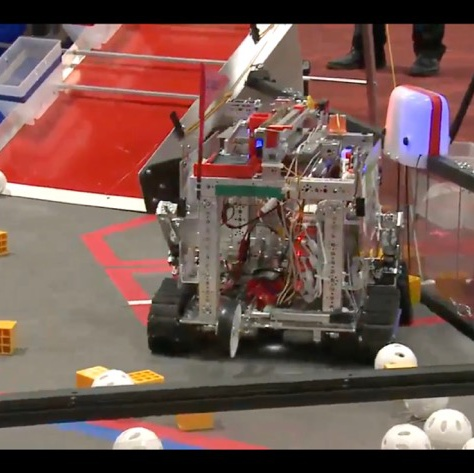robot: (133, 58, 415, 365)
